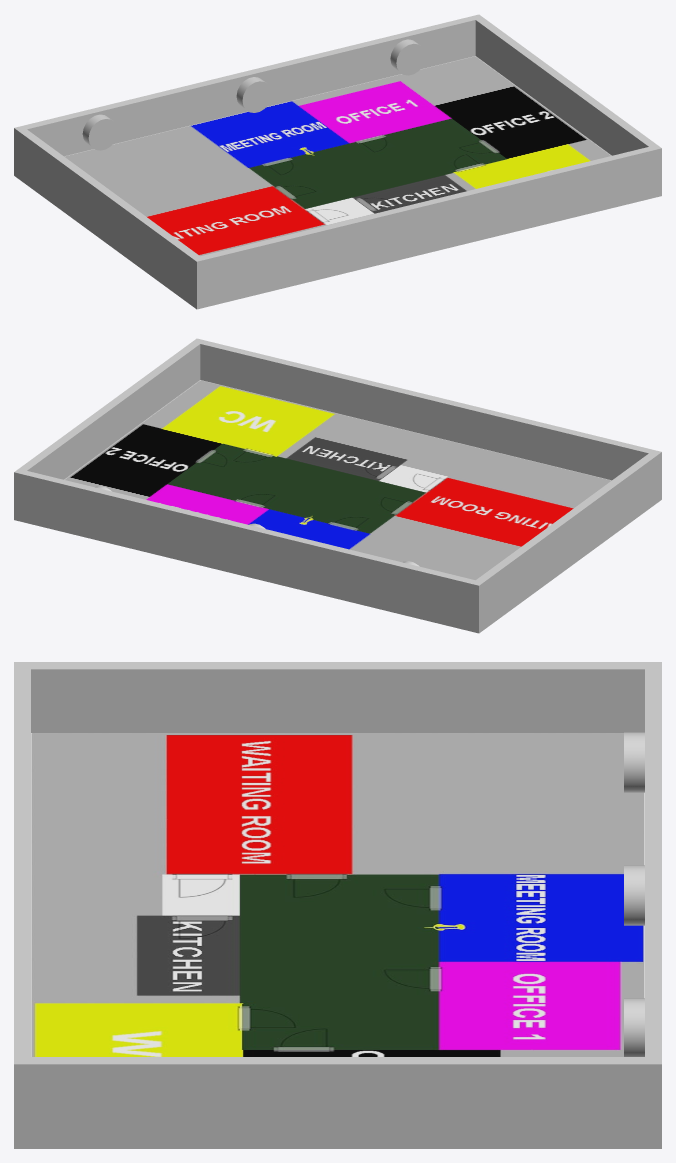
File: Map.FBX
3 renders of one model, top to bottom at view 1: azimuth 30°, elevation 25°; view 2: azimuth 150°, elevation 25°; view 3: azimuth 270°, elevation 25°, orthographic. The views are drawn at different scales.
Visible parts, largest first — view 1: Box001, Cylinder004, Cylinder006, Cylinder005; view 2: Box001; view 3: Box001, Cylinder006, Cylinder005, Cylinder004.
Part boxes in pixels (<box>): Box001: <box>14,14,661,309</box>; Cylinder004: <box>390,39,425,75</box>; Cylinder006: <box>82,114,118,150</box>; Cylinder005: <box>236,77,271,112</box>; Box001: <box>14,338,661,633</box>; Box001: <box>14,662,661,1148</box>; Cylinder006: <box>624,732,644,792</box>; Cylinder005: <box>624,865,644,925</box>; Cylinder004: <box>624,998,644,1056</box>.
Bounding box in the file's own units: 111 × 10.88 × 75.51.
1 material, 1 textured.
